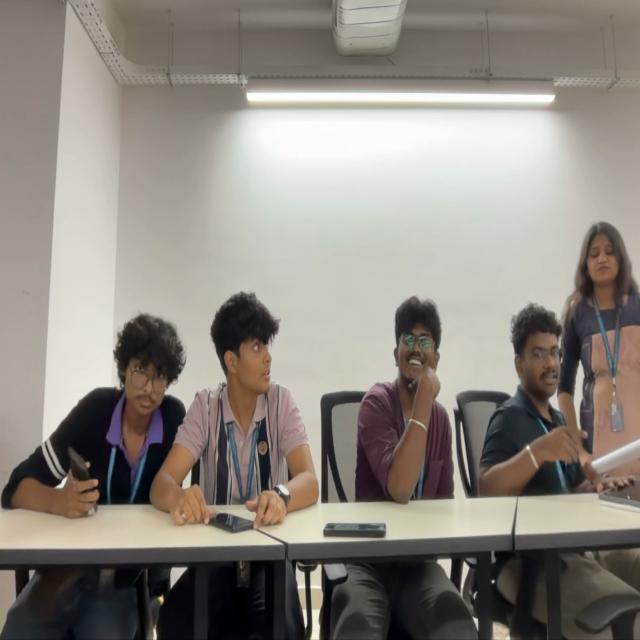Isolated: (357, 294, 456, 502)
socializing: (0, 288, 315, 527), (479, 222, 640, 495)
